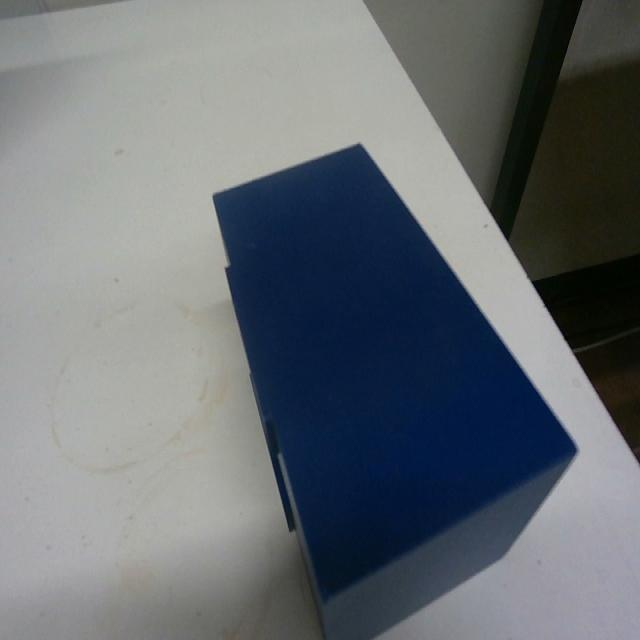Blue Cuboid: (210, 139, 579, 637)
